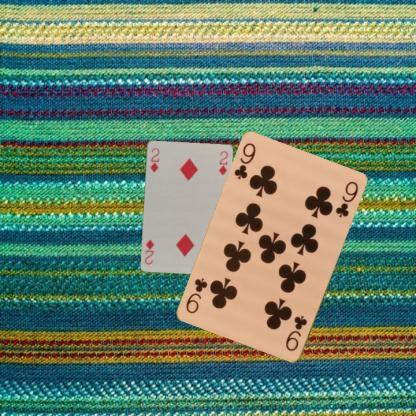2d: (147, 144, 161, 173)
9c: (232, 140, 258, 182), (283, 313, 309, 353)
